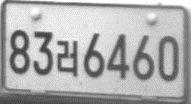0: (157, 35, 180, 82)
3: (32, 30, 53, 75)
4: (106, 34, 130, 79)
6: (132, 33, 155, 81), (82, 32, 105, 78)
8: (8, 29, 30, 74)
러: (55, 39, 78, 77)
